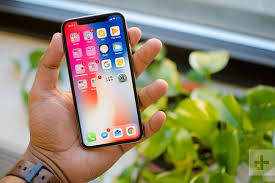iphone10: (59, 6, 143, 147)
